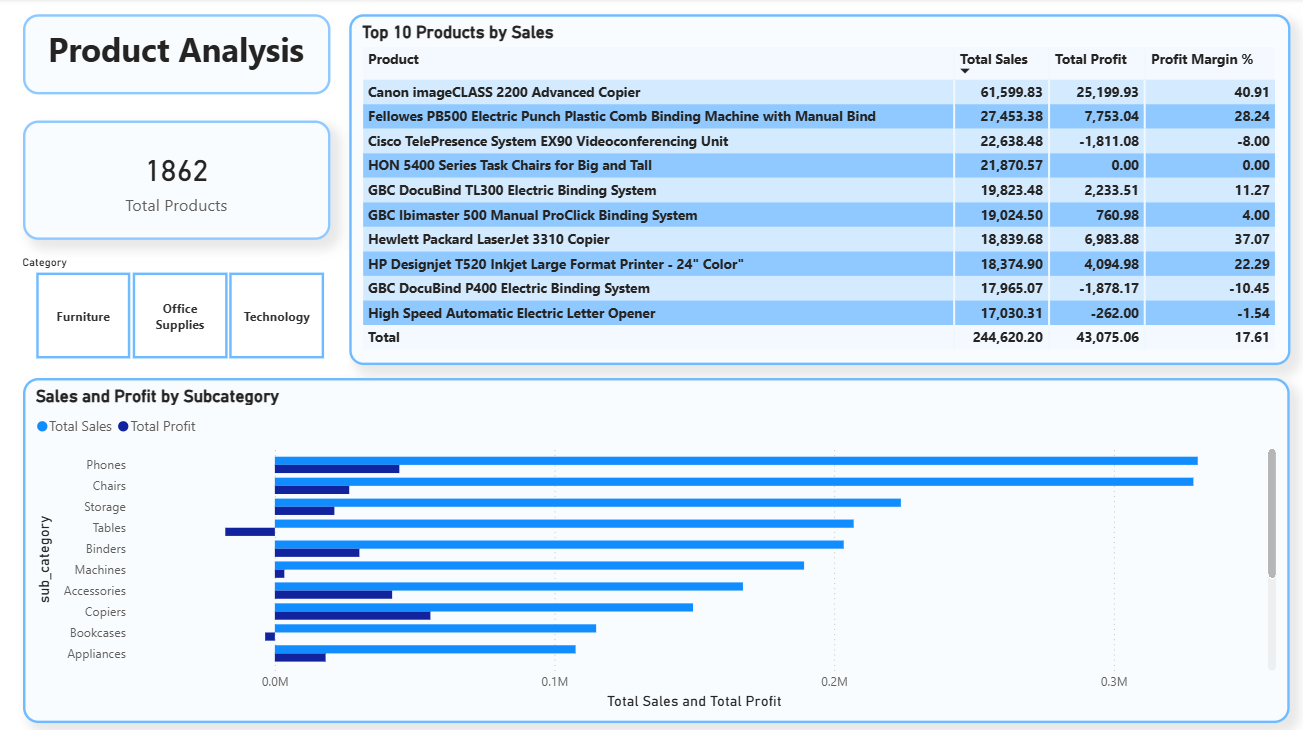

The dashboard page shown, as its layout file describes it:
{"tool":"powerbi","page":{"name":"Product analysis","canvas":[1280,720],"ordinal":1},"visuals":[{"type":"clusteredBarChart","title":"Sales and Profit by Subcategory","fields":{"Category":["dimensiune_produs.sub_category"],"Y":["fact_table.Total Sales","fact_table.Total Profit"]},"box":[24.7,371.9,1239.1,337.6],"z":0},{"type":"tableEx","title":"Top 10 Products by Sales","fields":{"Values":["dimensiune_produs.product_name","fact_table.Total Sales","fact_table.Total Profit","fact_table.Profit Margin %"]},"box":[343.1,16.5,920.8,343.1],"z":1000},{"type":"slicer","fields":{"Values":["dimensiune_produs.category"]},"box":[11,247,332.1,112.5],"z":2000},{"type":"textbox","box":[24.7,16.5,300.5,78.2],"z":3000},{"type":"card","fields":{"Values":["dimensiune_produs.Total Products"]},"box":[24.7,119.4,300.5,116.6],"z":4000}]}

Visuals, with their boxes in screenshot pixels (x1, y1, x2, y2), scaled from the page's 1280x720 canvas onto the 1303x730 screenshot:
"Sales and Profit by Subcategory" clusteredBarChart: x1=25, y1=377, x2=1287, y2=719
"Top 10 Products by Sales" tableEx: x1=349, y1=17, x2=1287, y2=365
slicer - dimensiune_produs.category: x1=11, y1=250, x2=349, y2=364
textbox: x1=25, y1=17, x2=331, y2=96
card - dimensiune_produs.Total Products: x1=25, y1=121, x2=331, y2=239
